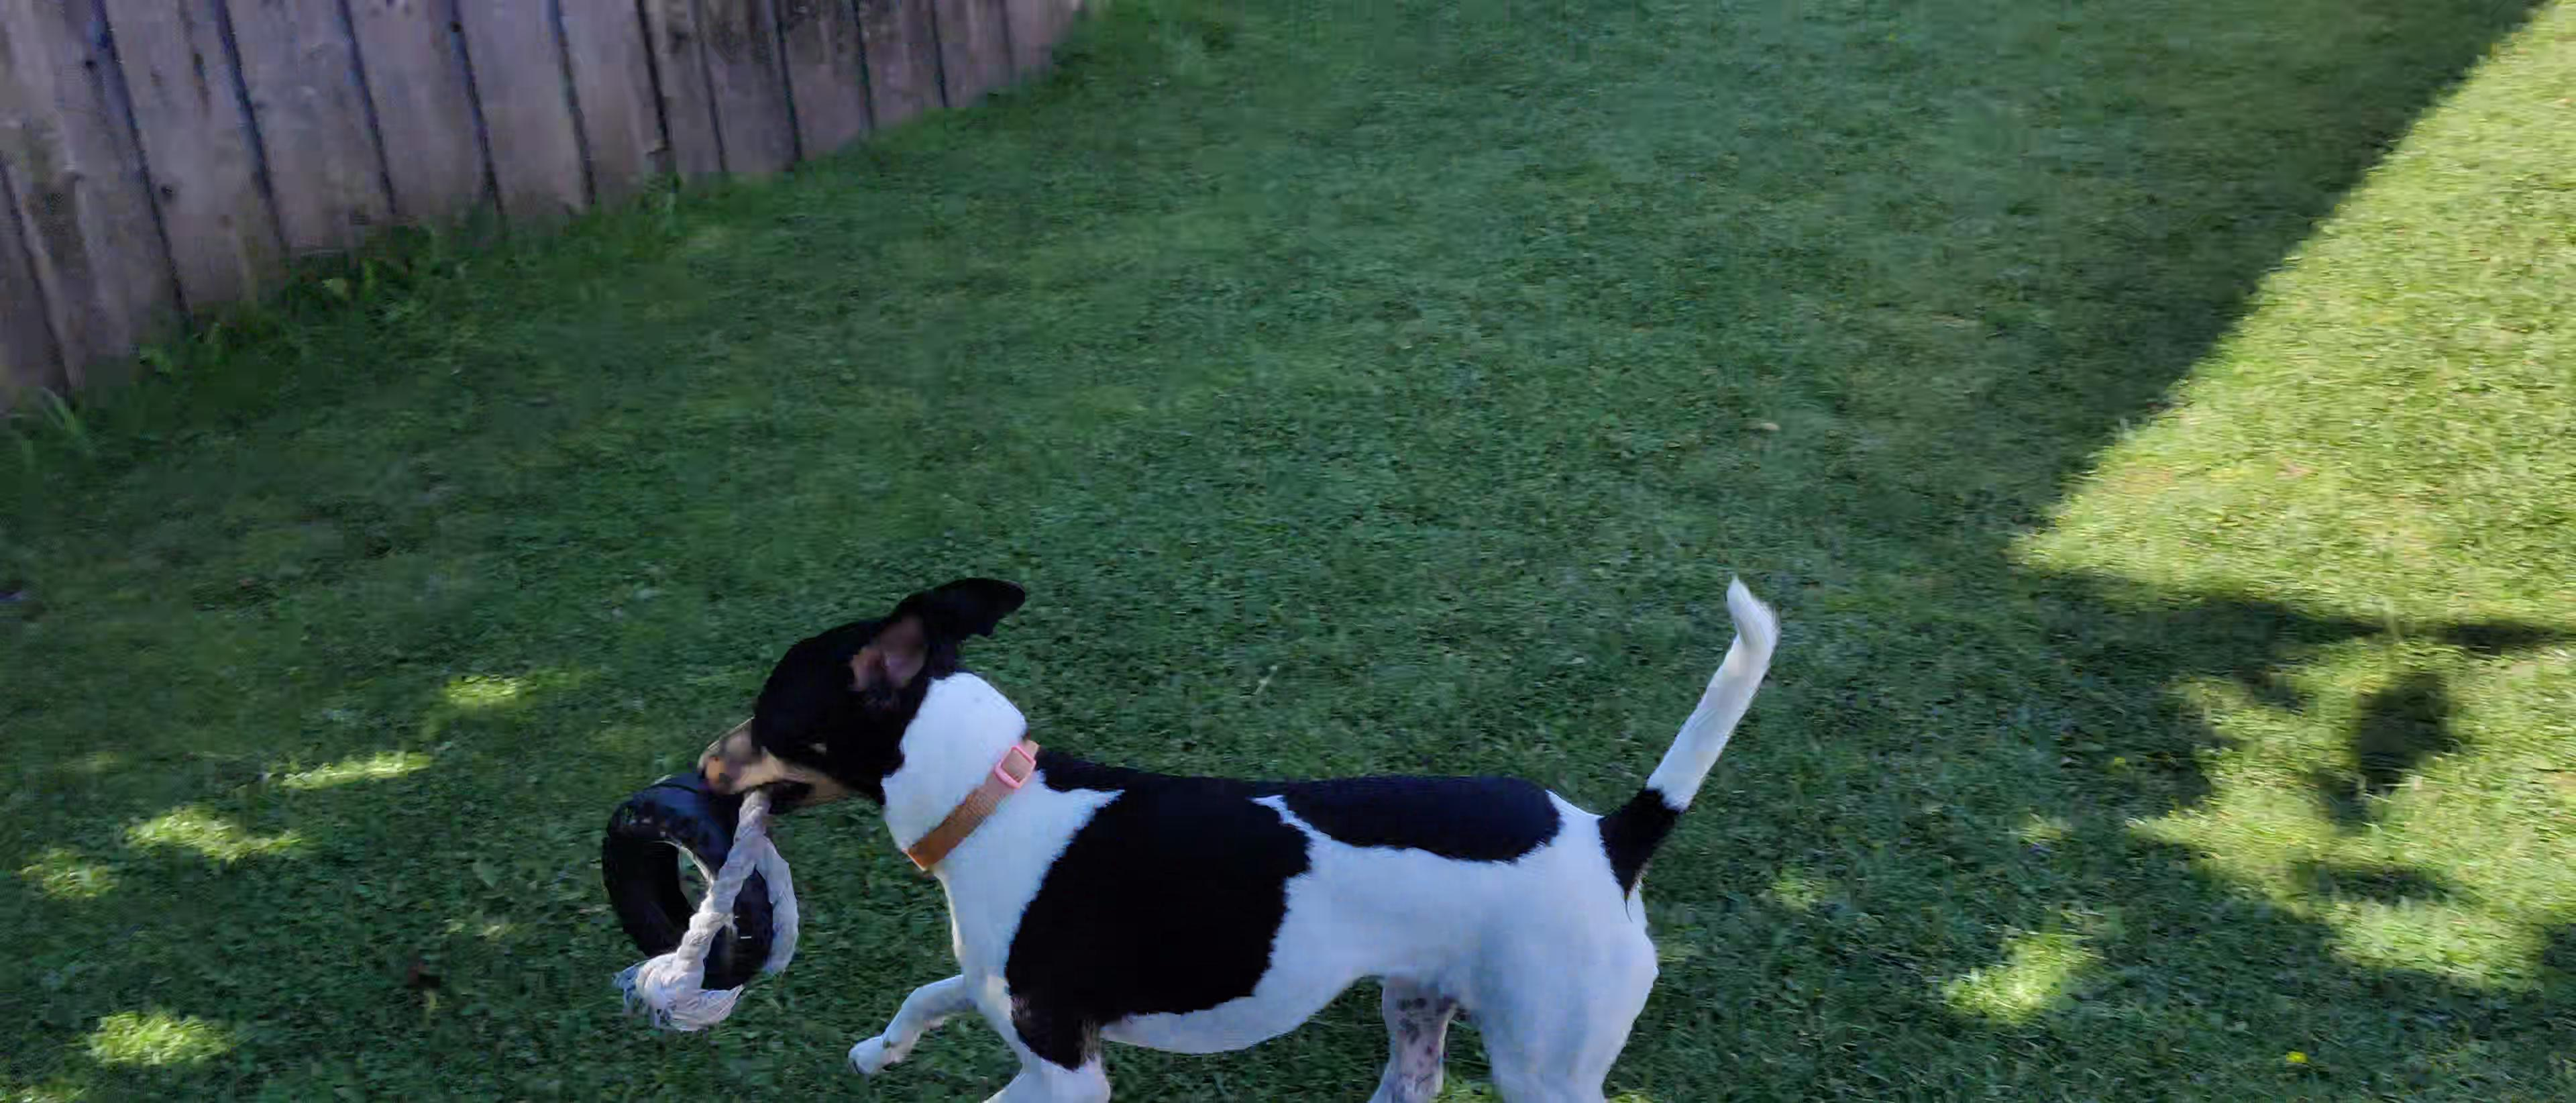Dog: (683, 556, 1789, 1103)
